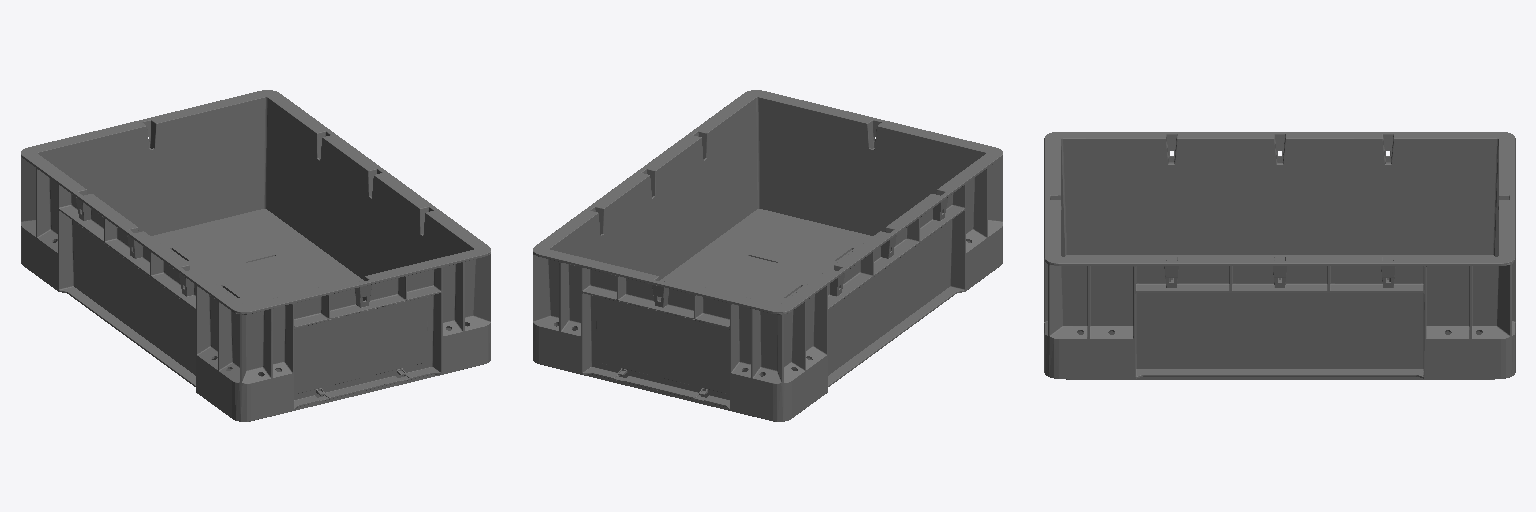
URDF robot description (tote):
<?xml version="1.0" ?>
<!-- =================================================================================== -->
<!-- |    This document was autogenerated by xacro from tote.xacro                     | -->
<!-- |    EDITING THIS FILE BY HAND IS NOT RECOMMENDED                                 | -->
<!-- =================================================================================== -->
<robot name="tote">

  <link name="tote">
    <visual>
      <origin rpy="0 0 0" xyz="0 0 0"/>
      <geometry>
        <mesh filename="tote_h1.stl"/>
      </geometry>
      <material name="">
        <color rgba="0.5 0.5 0.5 1.0"/>
      </material>
    </visual>
    <collision concave="yes">
      <origin rpy="0 0 0" xyz="0 0 0"/>
      <geometry>
        <mesh filename="tote_h1.stl"/>
      </geometry>
    </collision>
  </link>

</robot>

--- What the picture shows (computed from the rendered views, not written in the file) ---
The picture shows the robot from 3 angles, left to right: view 1: azimuth 30°, elevation 25°; view 2: azimuth 150°, elevation 25°; view 3: azimuth 270°, elevation 25°; orthographic projection.
Robot: tote — 1 links, 0 joints (none); root link tote; default pose: every joint at zero.
Links seen in each view (by area): view 1: tote; view 2: tote; view 3: tote.
Boxes of the visible links, x1,y1,x2,y2 form: tote: (21,90,490,421); tote: (533,90,1002,421); tote: (1044,132,1515,379).
Bounding box of the posed robot: 0.431 × 0.65 × 0.19 m (x, y, z).
Meshes: 1 distinct files referenced, 1 mesh visuals loaded (1 binary STL).